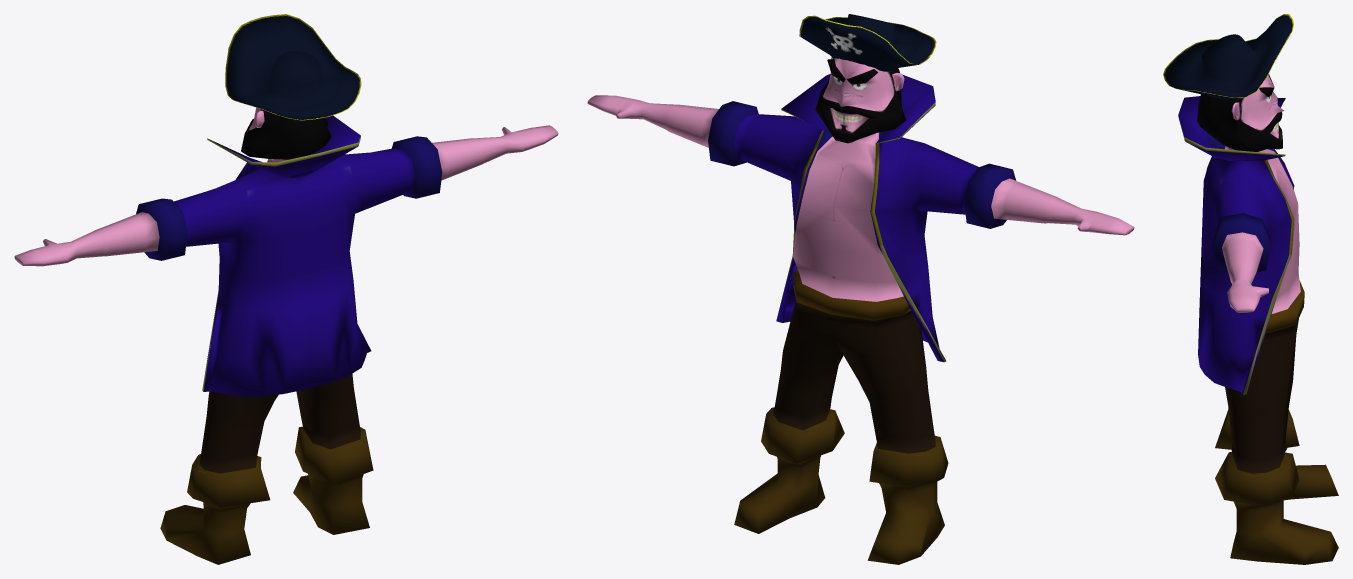
Rendered from pirata.obj.
3 views of the same model, side by side, from view 1: azimuth 30°, elevation 25°; view 2: azimuth 150°, elevation 25°; view 3: azimuth 270°, elevation 25° (orthographic). The views are drawn at different scales.
Parts seen in each view (by area): view 1: Pirata_PirataH; view 2: Pirata_PirataH; view 3: Pirata_PirataH.
Part boxes in pixels (x1=…): Pirata_PirataH: x1=14, y1=14, x2=558, y2=564; Pirata_PirataH: x1=587, y1=14, x2=1134, y2=564; Pirata_PirataH: x1=1163, y1=14, x2=1338, y2=564.
Size of the model in its own units: 10.8 by 9.76 by 3.13.
Materials: 1 (1 with a texture image).
